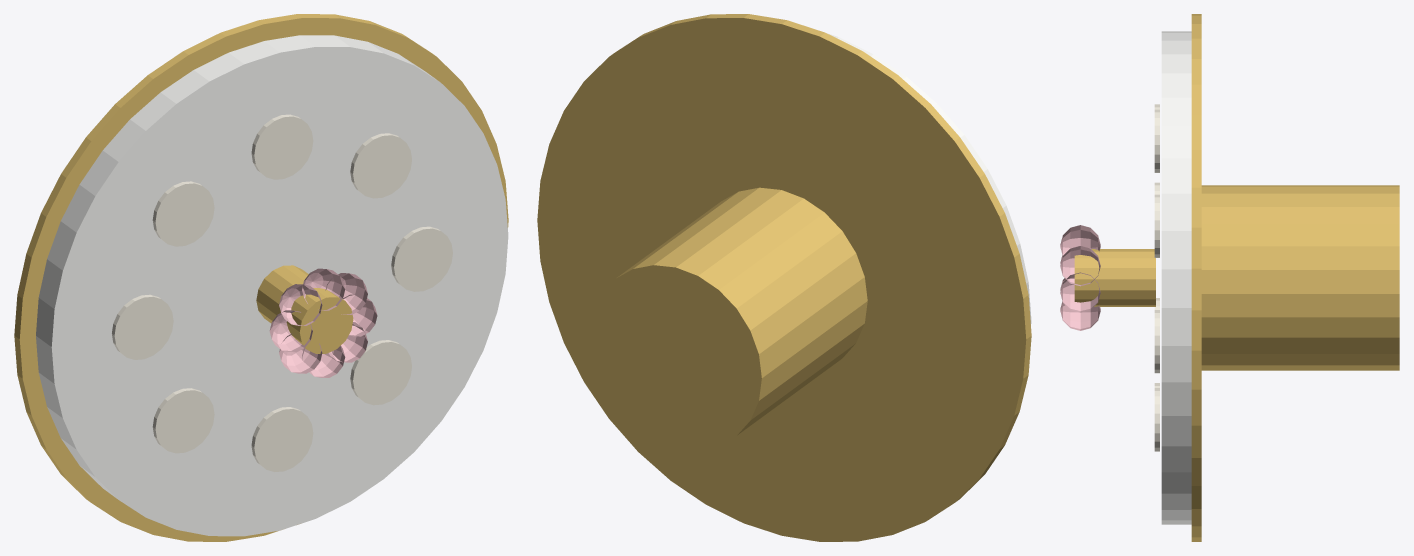
File: vip_round_table.glb
The picture shows the model from 3 angles, left to right: view 1: azimuth 30°, elevation 25°; view 2: azimuth 150°, elevation 25°; view 3: azimuth 270°, elevation 25°; orthographic projection. The views are drawn at different scales.
Visible parts, largest first — view 1: linen, plate (×8), vip_ring, flower (×8), centerpiece; view 2: vip_ring, base, linen; view 3: base, linen, vip_ring, centerpiece, flower (×4).
Boxes of the visible parts, x1=… form: linen: x1=36, y1=35, x2=508, y2=536; plate (×8): x1=112, y1=114, x2=452, y2=471; vip_ring: x1=14, y1=14, x2=508, y2=541; flower (×8): x1=269, y1=268, x2=377, y2=377; centerpiece: x1=256, y1=265, x2=353, y2=353; vip_ring: x1=537, y1=14, x2=1031, y2=541; base: x1=590, y1=187, x2=867, y2=449; linen: x1=826, y1=33, x2=1031, y2=323; base: x1=1201, y1=185, x2=1399, y2=370; linen: x1=1161, y1=31, x2=1191, y2=524; vip_ring: x1=1191, y1=14, x2=1201, y2=541; centerpiece: x1=1074, y1=249, x2=1155, y2=306; flower (×4): x1=1060, y1=226, x2=1100, y2=330.
Size of the model in its own units: 1.82 by 1.82 by 1.17.
